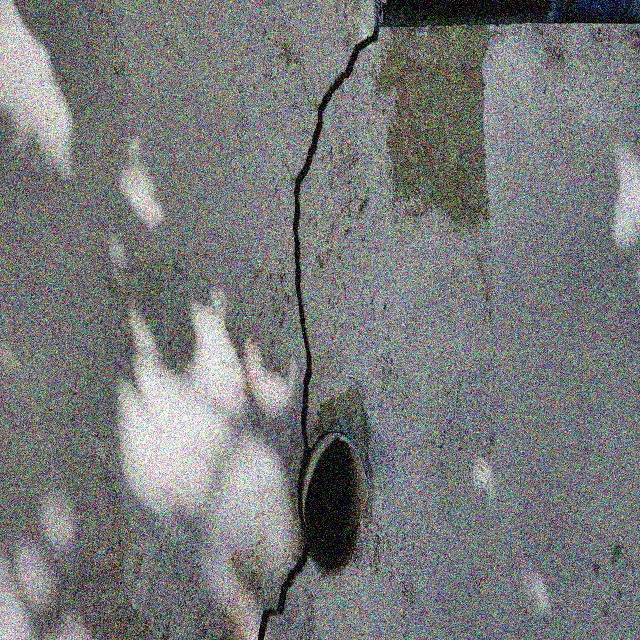SurfaceCrack: (214, 1, 414, 640)
